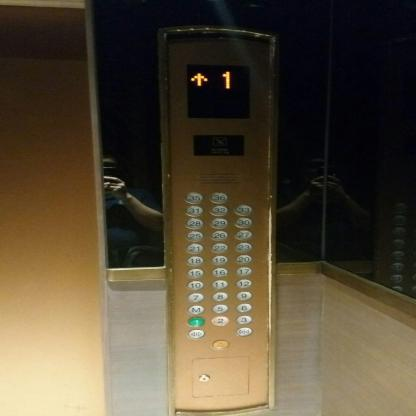1: (186, 316, 206, 328)
10: (185, 280, 206, 291)
11: (209, 279, 230, 290)
12: (234, 278, 255, 290)
15: (184, 267, 206, 279)
16: (209, 267, 231, 278)
17: (232, 266, 254, 277)
18: (184, 255, 205, 267)
19: (209, 255, 230, 266)
2: (211, 316, 230, 326)
20: (234, 254, 254, 266)
21: (184, 243, 204, 254)
22: (209, 242, 230, 254)
23: (233, 242, 254, 253)
25: (184, 231, 204, 242)
26: (210, 230, 230, 242)
27: (233, 230, 254, 242)
28: (184, 218, 205, 230)
29: (209, 217, 230, 229)
3: (234, 314, 253, 324)
30: (233, 217, 254, 228)
31: (184, 204, 205, 216)
32: (209, 204, 230, 216)
33: (233, 204, 254, 216)
35: (184, 192, 204, 204)
36: (209, 192, 230, 204)
5: (210, 304, 230, 314)
6: (235, 303, 253, 313)
7: (186, 293, 205, 302)
8: (210, 292, 230, 301)
9: (234, 291, 252, 301)
M: (186, 305, 205, 314)
alarm: (210, 338, 230, 350)
close: (235, 326, 254, 337)
keyhole: (196, 374, 210, 382)
led: (184, 63, 252, 120)
open: (186, 328, 205, 340)
